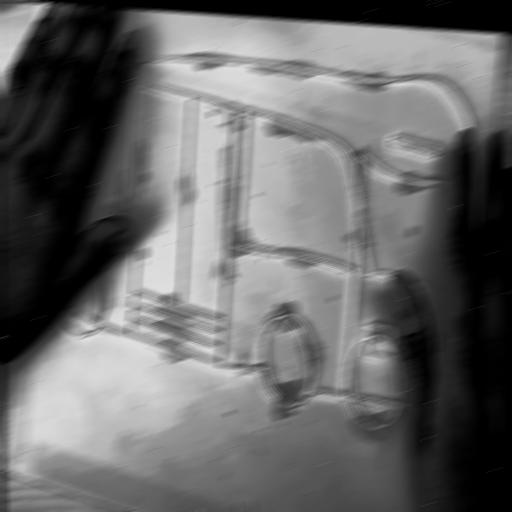bus: (0, 3, 502, 471)
